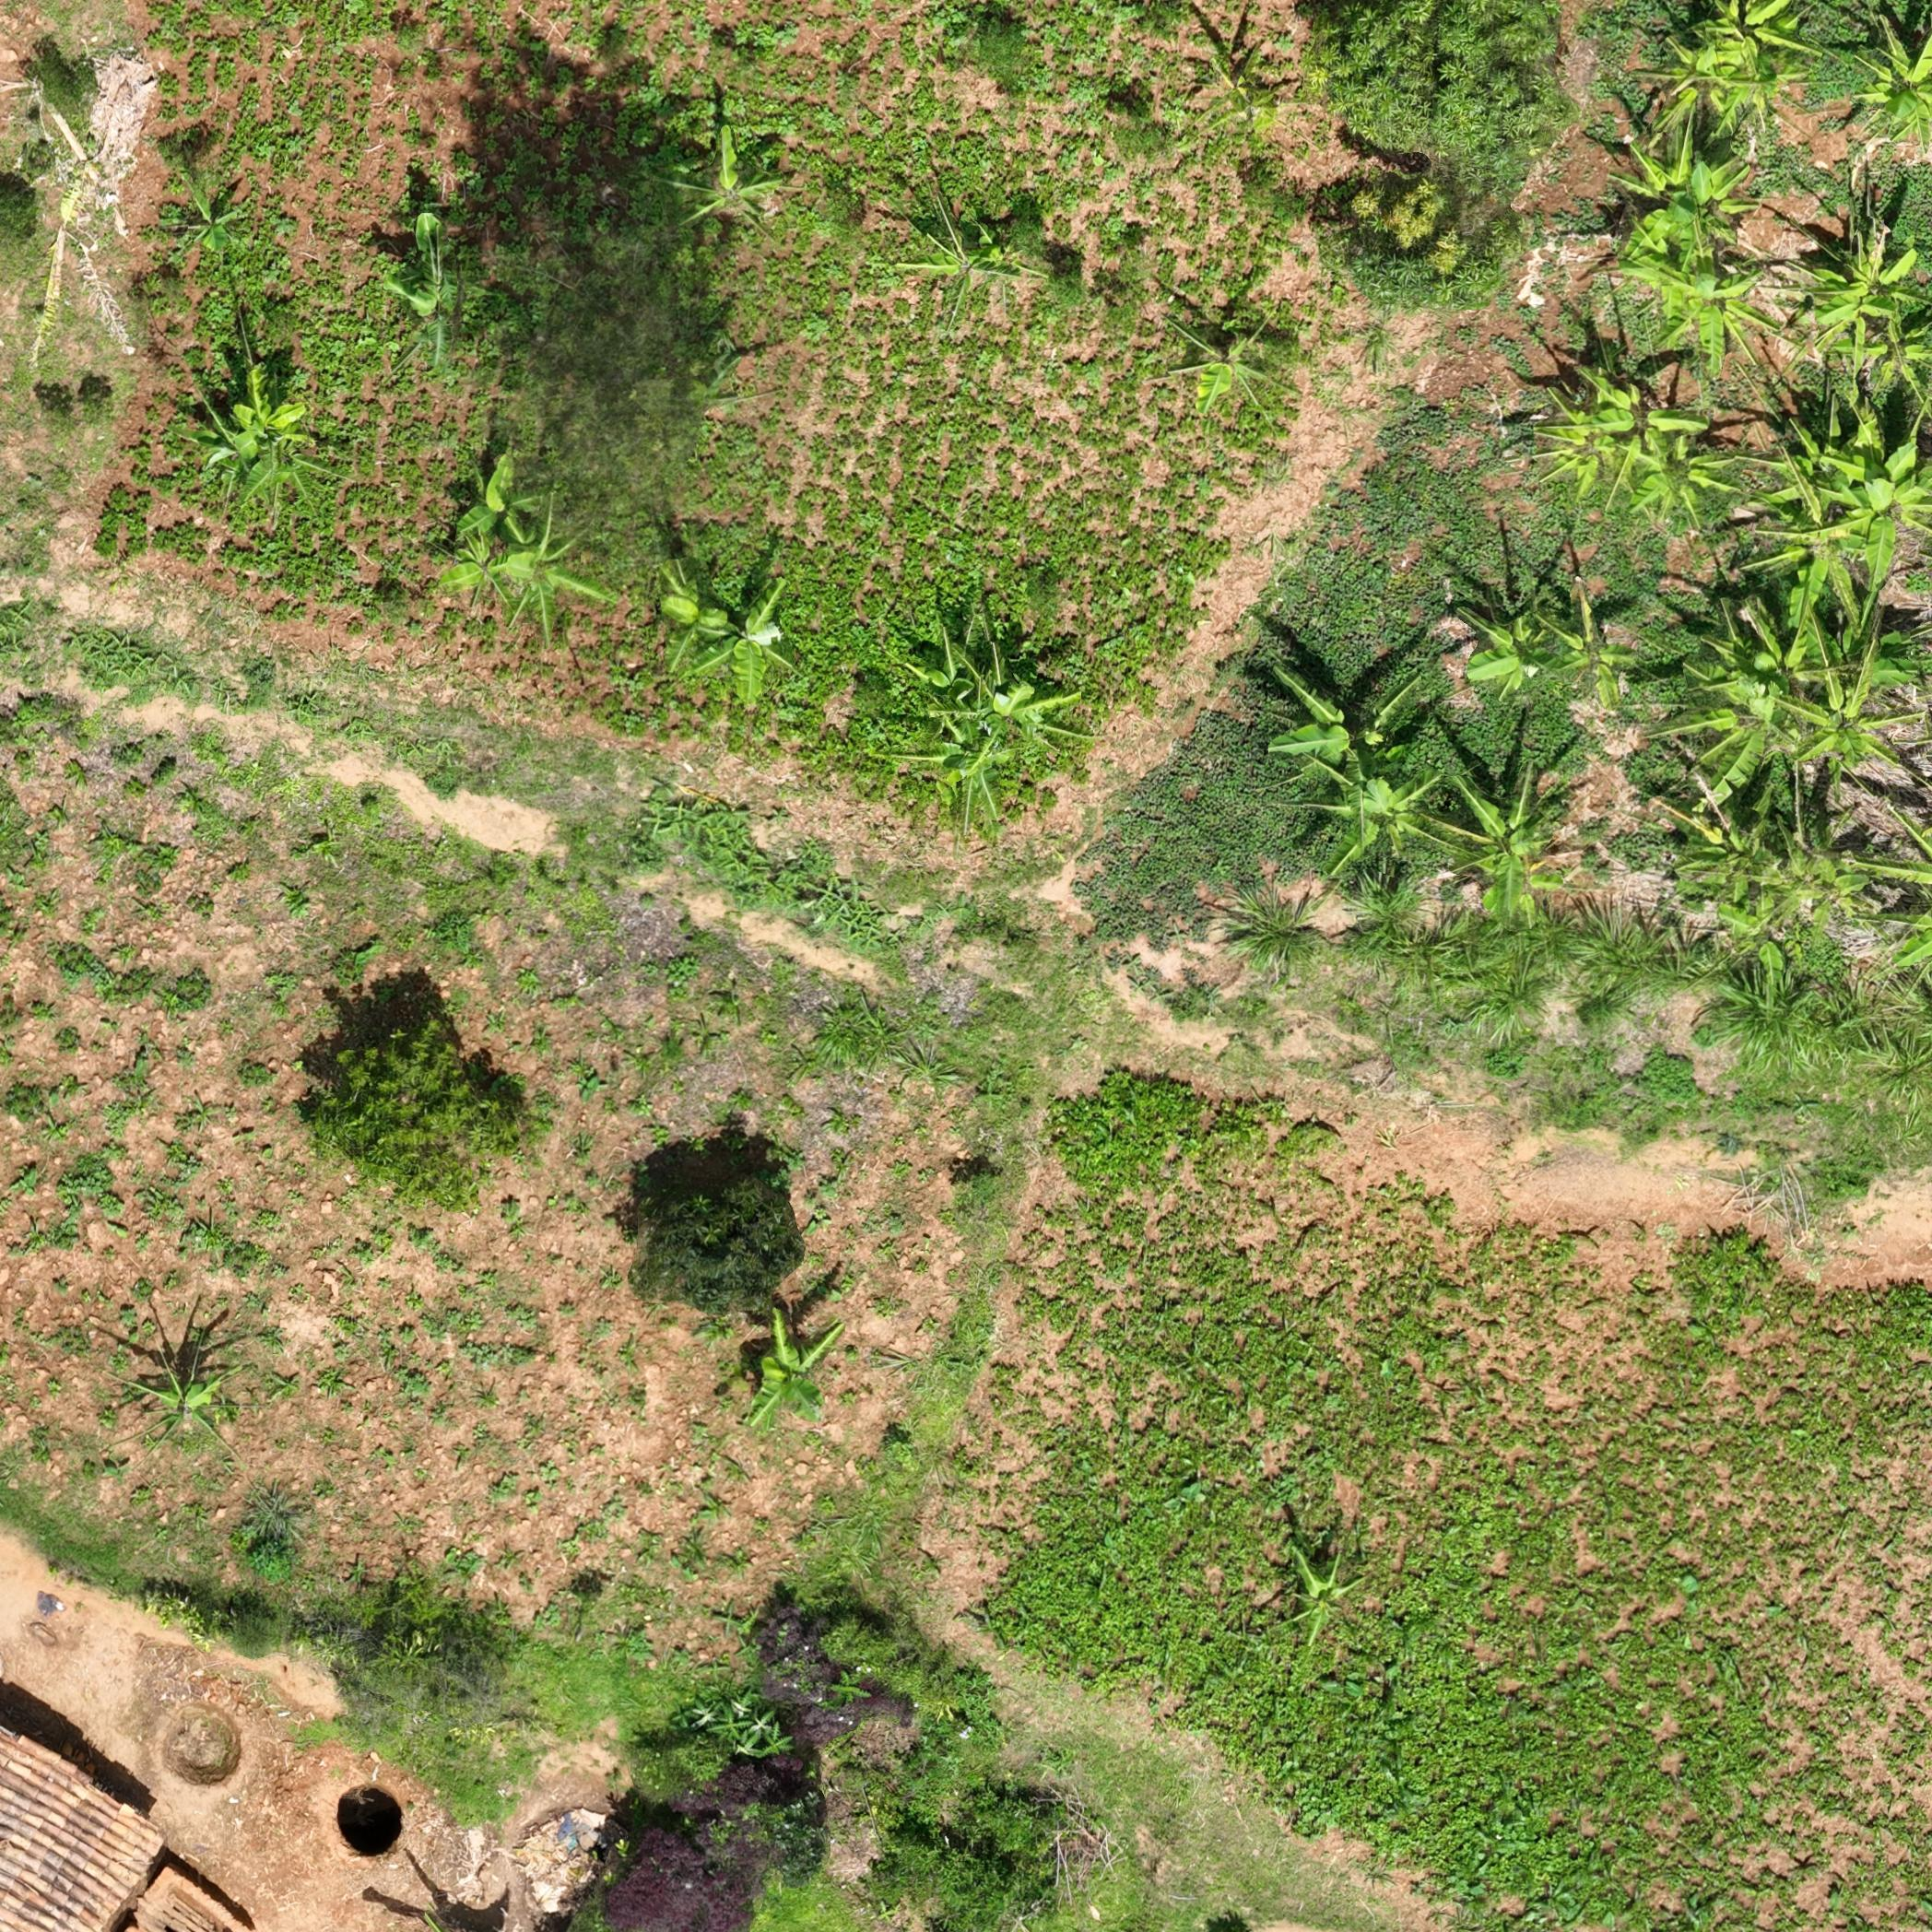Banana: (479, 517, 614, 662), (198, 382, 343, 510), (962, 648, 1099, 770), (1460, 796, 1598, 913), (904, 193, 1024, 315), (1177, 303, 1284, 437), (902, 709, 1012, 837), (143, 1332, 248, 1465), (1276, 672, 1419, 766), (1819, 435, 1930, 554), (387, 223, 488, 354), (741, 1313, 835, 1451), (1460, 594, 1550, 720), (1713, 881, 1821, 985), (1637, 265, 1767, 349), (1799, 678, 1890, 796), (1720, 579, 1819, 685), (1327, 789, 1456, 870), (1557, 609, 1661, 702), (1284, 1530, 1364, 1652), (1582, 368, 1693, 455), (1677, 695, 1794, 777), (168, 175, 264, 272), (695, 142, 789, 234), (1872, 832, 1930, 973), (1861, 30, 1927, 154), (1782, 464, 1854, 575), (1536, 409, 1617, 506), (1622, 145, 1697, 251), (1652, 28, 1729, 131), (1670, 163, 1767, 242), (1677, 812, 1789, 881), (1642, 439, 1721, 531), (660, 571, 729, 667), (745, 589, 801, 702), (1711, 4, 1822, 57), (1824, 234, 1911, 301), (1870, 320, 1921, 416), (1732, 53, 1794, 124)
